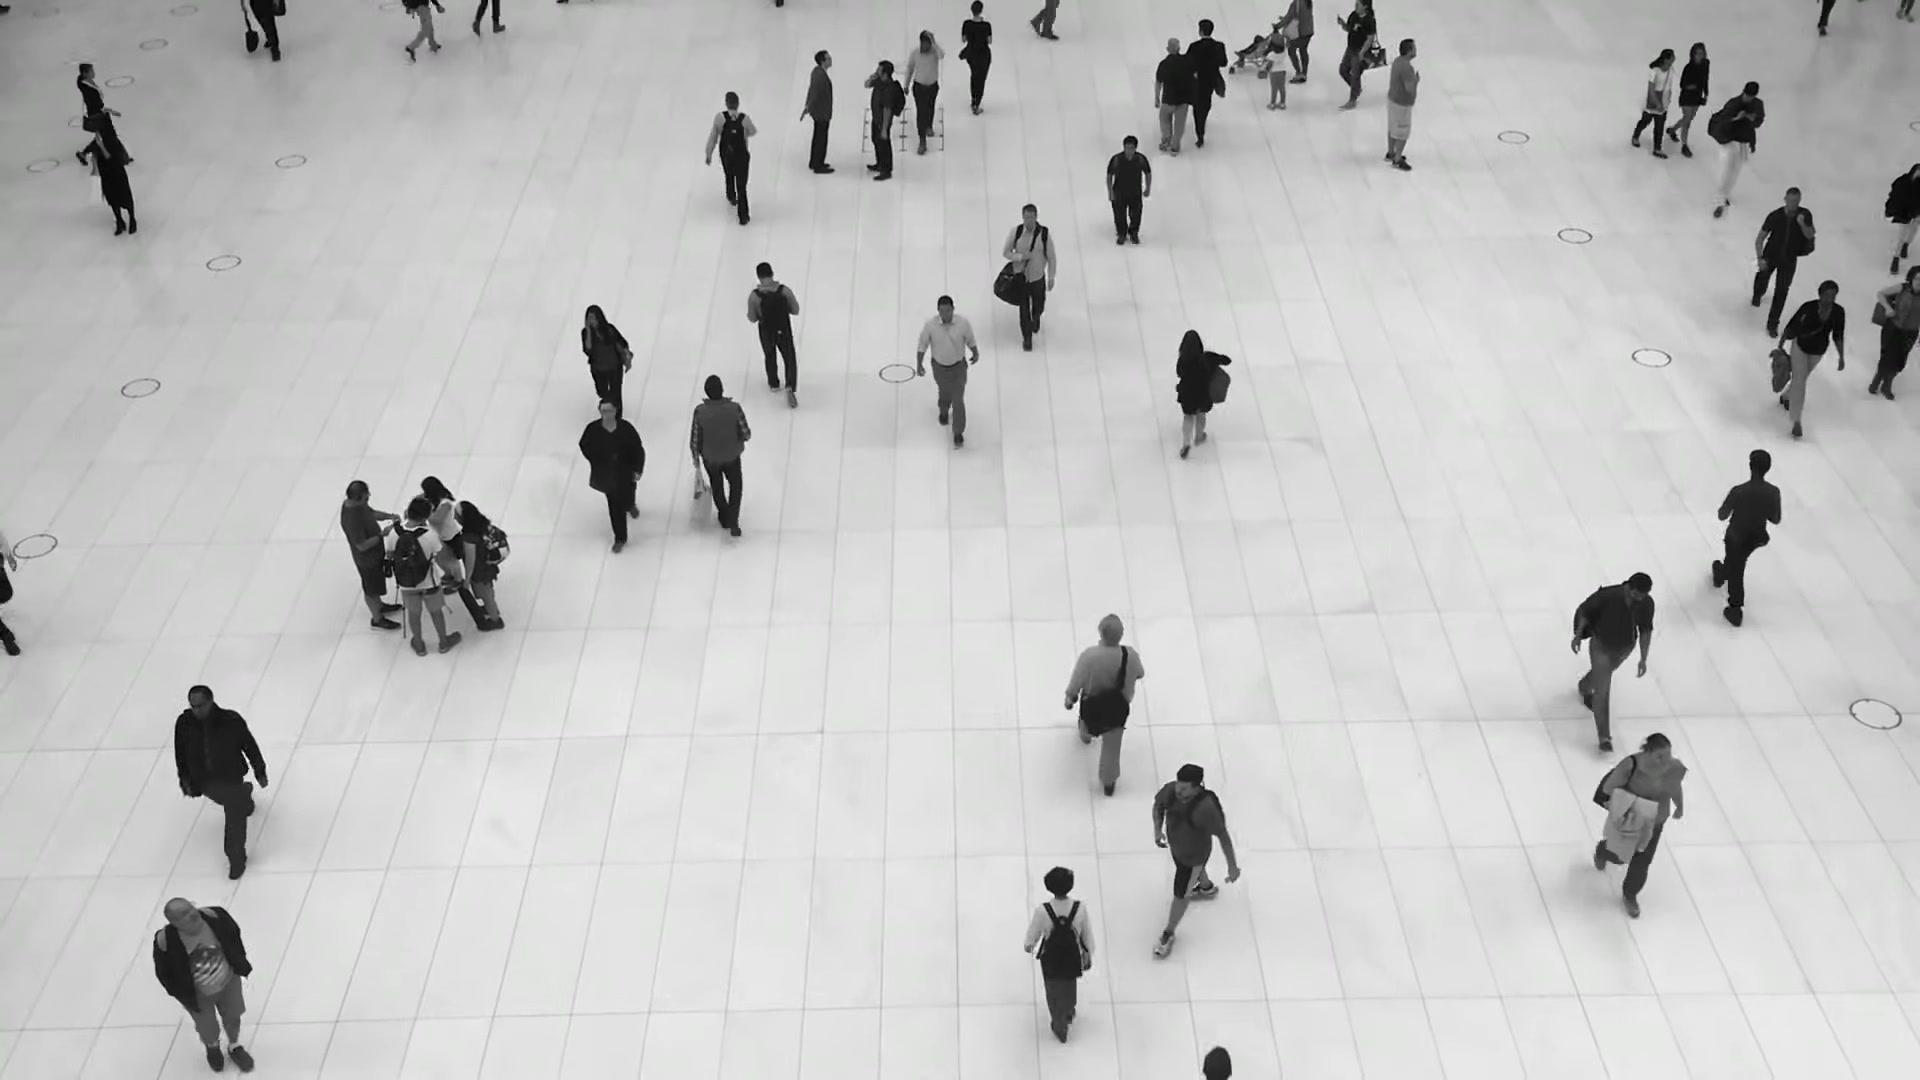person: (151, 898, 257, 1078), (1591, 733, 1687, 928), (172, 680, 260, 866), (1064, 611, 1144, 793), (1153, 762, 1229, 951), (1574, 571, 1656, 745), (1025, 868, 1097, 1056), (1708, 447, 1782, 620), (385, 499, 460, 657), (1771, 279, 1844, 434), (688, 375, 752, 546), (577, 396, 648, 545), (1749, 183, 1817, 329), (339, 479, 401, 632), (917, 295, 980, 444), (1003, 206, 1057, 357), (1705, 81, 1764, 217), (1864, 269, 1920, 412), (747, 258, 801, 404), (1170, 329, 1227, 457), (705, 91, 759, 224), (453, 500, 507, 632), (1103, 138, 1153, 254), (579, 303, 631, 413), (1183, 16, 1228, 141), (860, 59, 904, 182), (92, 118, 137, 236), (1330, 0, 1377, 112), (1383, 37, 1421, 171), (1153, 39, 1195, 161), (420, 475, 460, 596), (1633, 46, 1677, 155), (904, 26, 945, 147), (1669, 41, 1710, 156), (799, 49, 835, 174), (75, 61, 116, 151), (960, 3, 992, 119), (1273, 0, 1313, 87), (1263, 36, 1287, 110)
